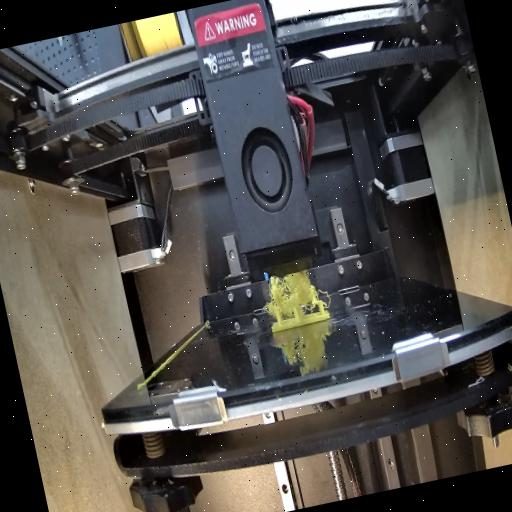spaghetti: (259, 265, 332, 320)
